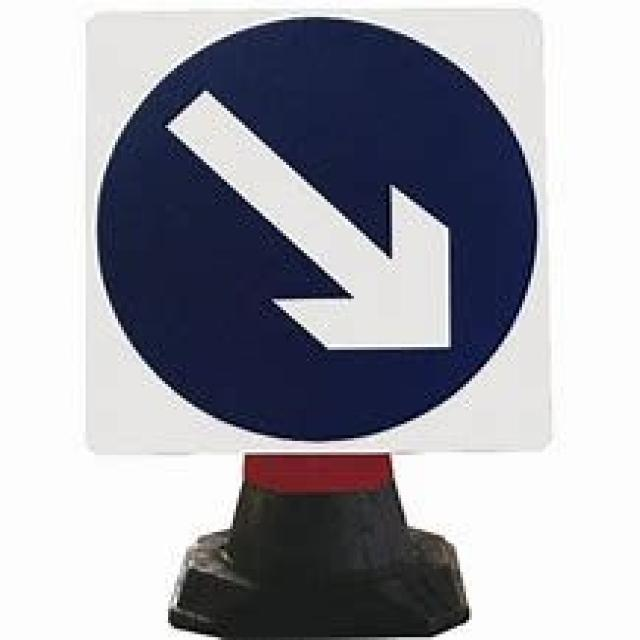COMPULSARY_KEEP_RIGHT: (98, 12, 534, 450)
